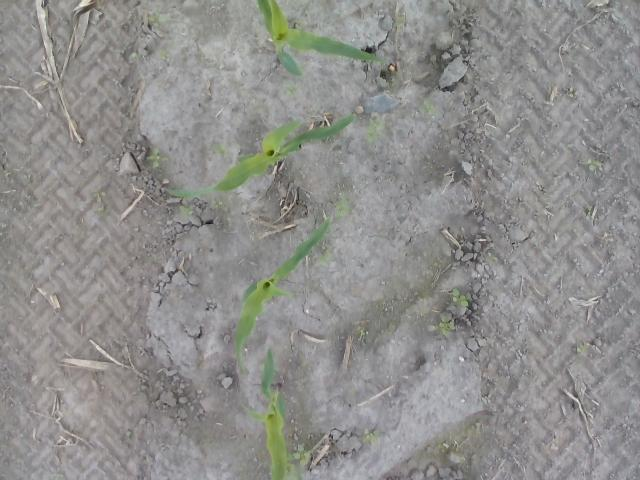Maize: (165, 112, 358, 198), (234, 216, 332, 376), (257, 1, 389, 78), (242, 347, 291, 479)
Weeds: (366, 118, 387, 142), (437, 316, 457, 340), (451, 289, 471, 310), (293, 446, 314, 466), (147, 150, 166, 170), (92, 188, 106, 214), (334, 200, 352, 218), (583, 158, 603, 172), (148, 13, 166, 28), (420, 100, 434, 118), (364, 430, 379, 444), (217, 142, 230, 156), (179, 206, 192, 216), (578, 344, 588, 353)
